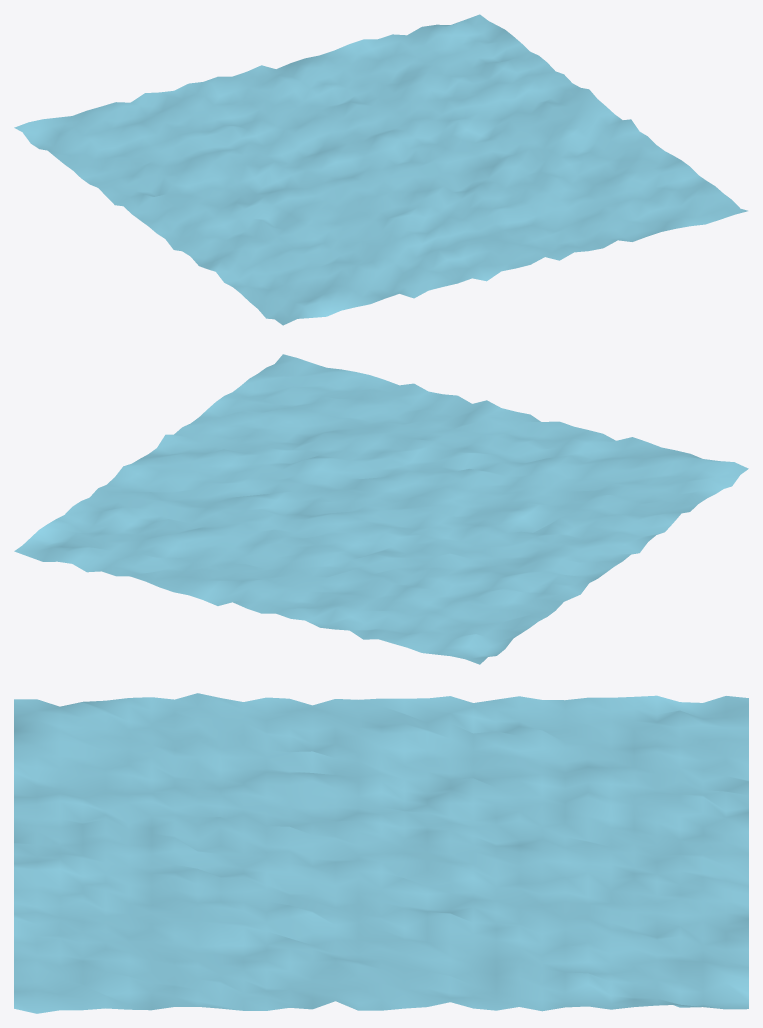
The model's file is lowpolysea01.fbx.
The picture shows the model from 3 angles, top to bottom: view 1: azimuth 30°, elevation 25°; view 2: azimuth 150°, elevation 25°; view 3: azimuth 270°, elevation 25°; orthographic projection. The views are drawn at different scales.
Parts seen in each view (by area): view 1: lowpolysea; view 2: lowpolysea; view 3: lowpolysea.
Part boxes in pixels (bbox=[...]): lowpolysea: bbox=[14, 14, 747, 325]; lowpolysea: bbox=[14, 354, 748, 664]; lowpolysea: bbox=[14, 693, 748, 1013].
Size of the model in its own units: 2356 by 68.84 by 2356.
